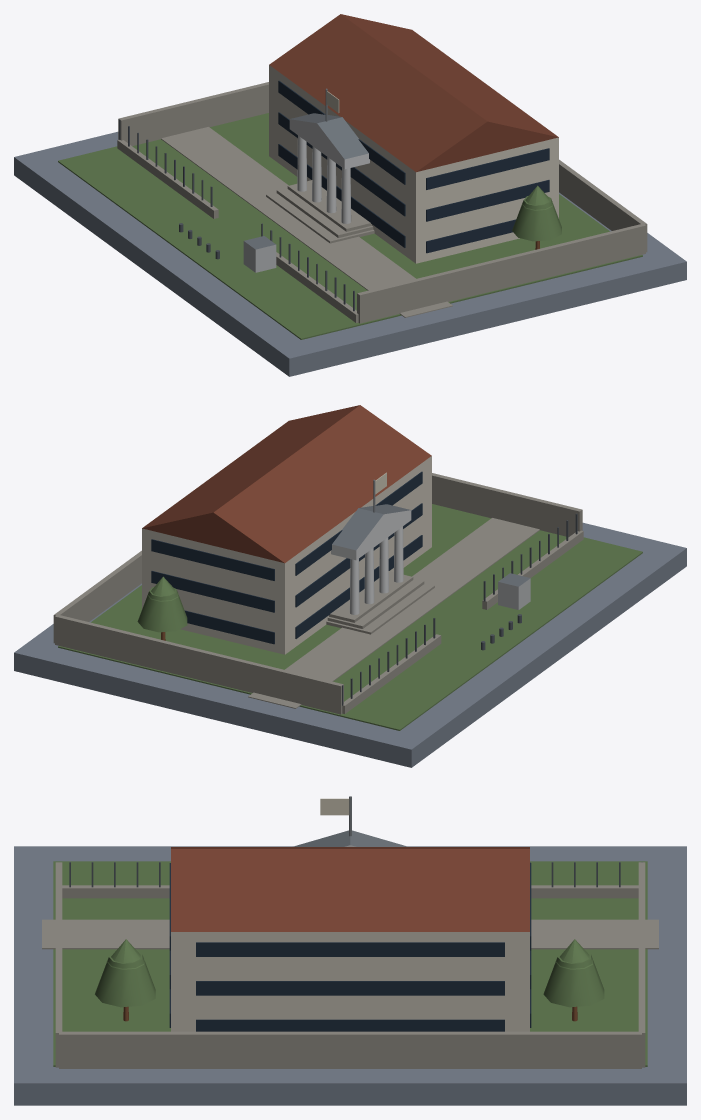
The model's file is embassy.glb.
3 renders of one model, top to bottom at view 1: azimuth 30°, elevation 25°; view 2: azimuth 150°, elevation 25°; view 3: azimuth 270°, elevation 25°, orthographic. The views are drawn at different scales.
Visible parts, largest first — view 1: embassy; view 2: embassy; view 3: embassy.
Part boxes in pixels (x1,y1,x2,y2): embassy: (14,14,686,376); embassy: (14,405,686,767); embassy: (14,796,686,1105).
Bounding box in the file's own units: 50 × 17.35 × 60.
